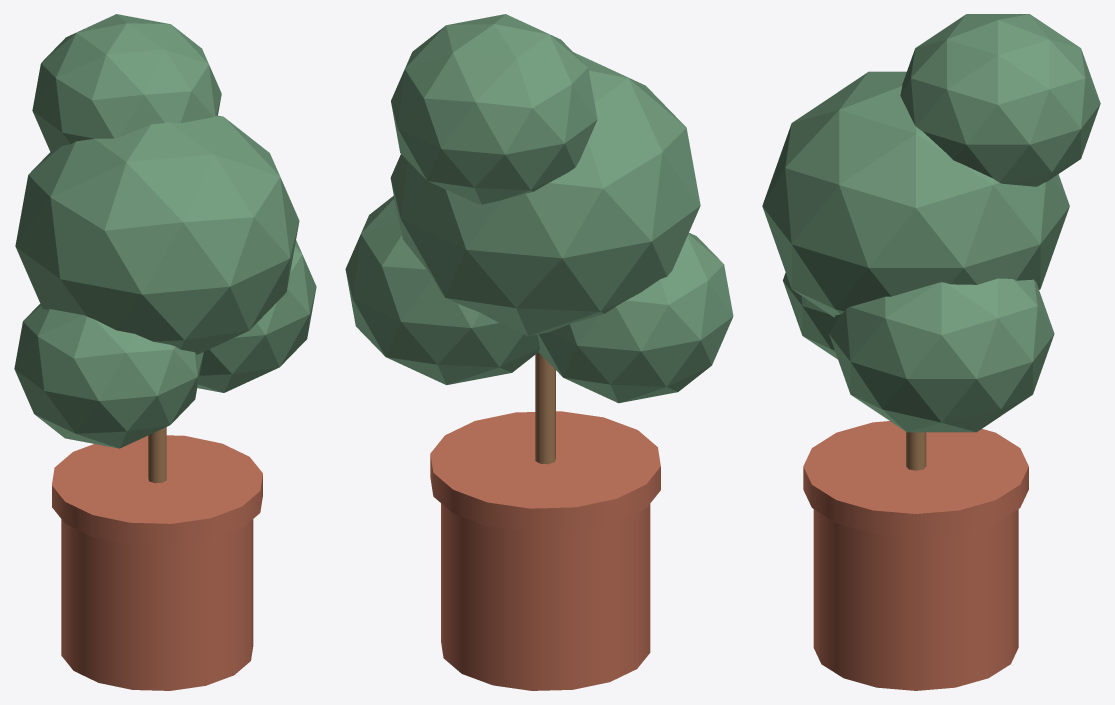
Rendered from Maceta.fbx.
The picture shows the model from 3 angles, left to right: view 1: azimuth 30°, elevation 25°; view 2: azimuth 150°, elevation 25°; view 3: azimuth 270°, elevation 25°; orthographic projection. The views are drawn at different scales.
Visible parts, largest first — view 1: Maceta; view 2: Maceta; view 3: Maceta.
Boxes of the visible parts, x1,y1,x2,y2 form: Maceta: (14, 14, 316, 690); Maceta: (345, 14, 733, 690); Maceta: (762, 14, 1100, 690).
Bounding box in the file's own units: 0.7094 × 1.36 × 0.66.
